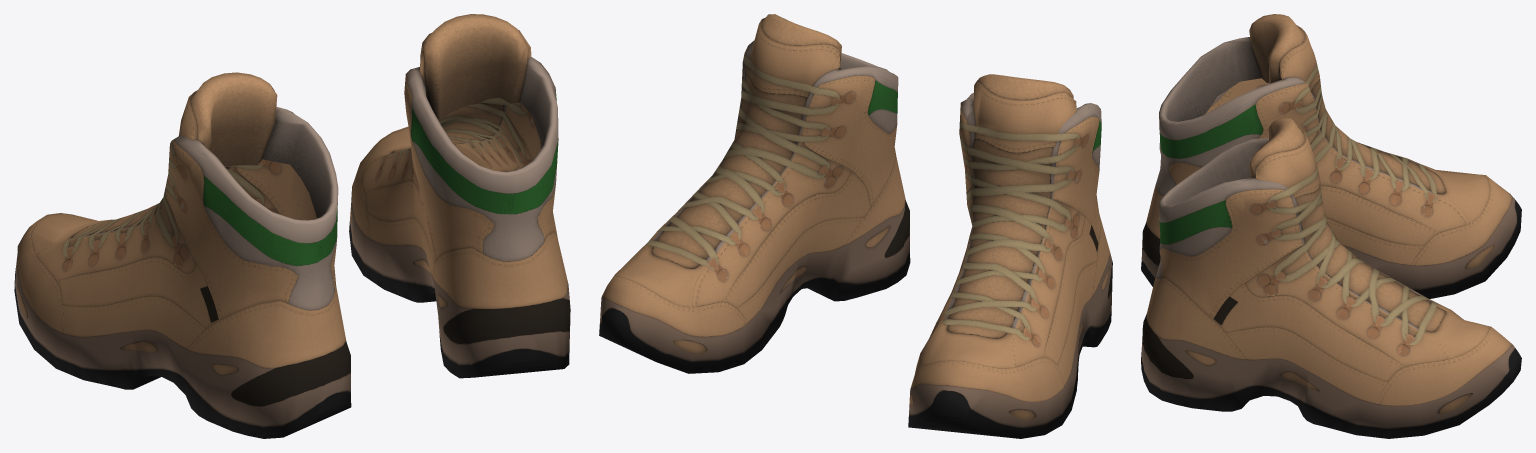
The model's file is boots.obj.
3 views of the same model, side by side, from view 1: azimuth 30°, elevation 25°; view 2: azimuth 150°, elevation 25°; view 3: azimuth 270°, elevation 25° (orthographic). The views are drawn at different scales.
Visible parts, largest first — view 1: shoe.001_shoe.002, shoe; view 2: shoe, shoe.001_shoe.002; view 3: shoe, shoe.001_shoe.002.
Boxes of the visible parts, <box> form: shoe.001_shoe.002: <box>14,72,351,438</box>; shoe: <box>349,14,570,378</box>; shoe: <box>599,14,910,373</box>; shoe.001_shoe.002: <box>908,74,1112,438</box>; shoe: <box>1141,118,1521,438</box>; shoe.001_shoe.002: <box>1141,14,1521,298</box>.
Size of the model in its own units: 11.09 by 7.04 by 9.09.
